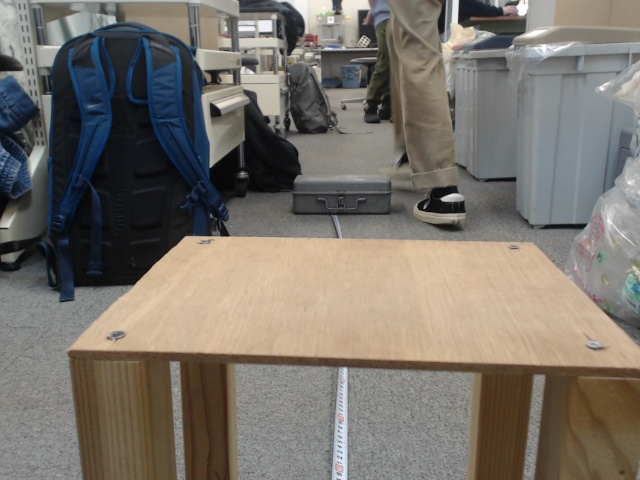desk: (273, 165, 505, 428)
